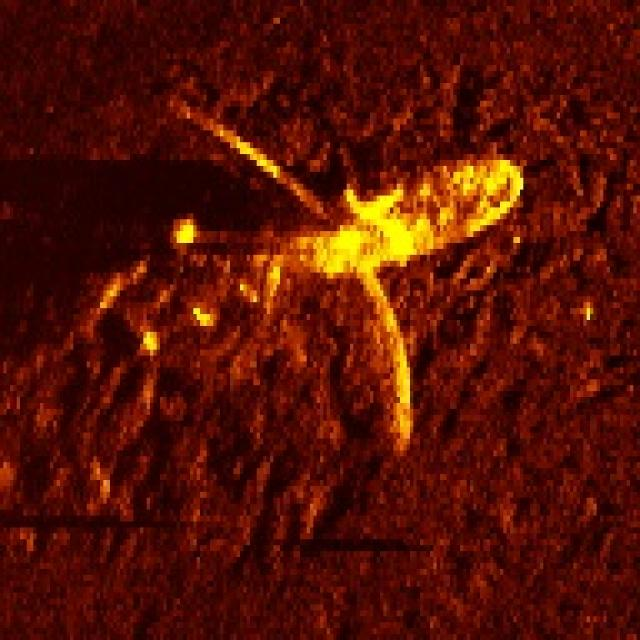plane: (140, 62, 540, 483)
